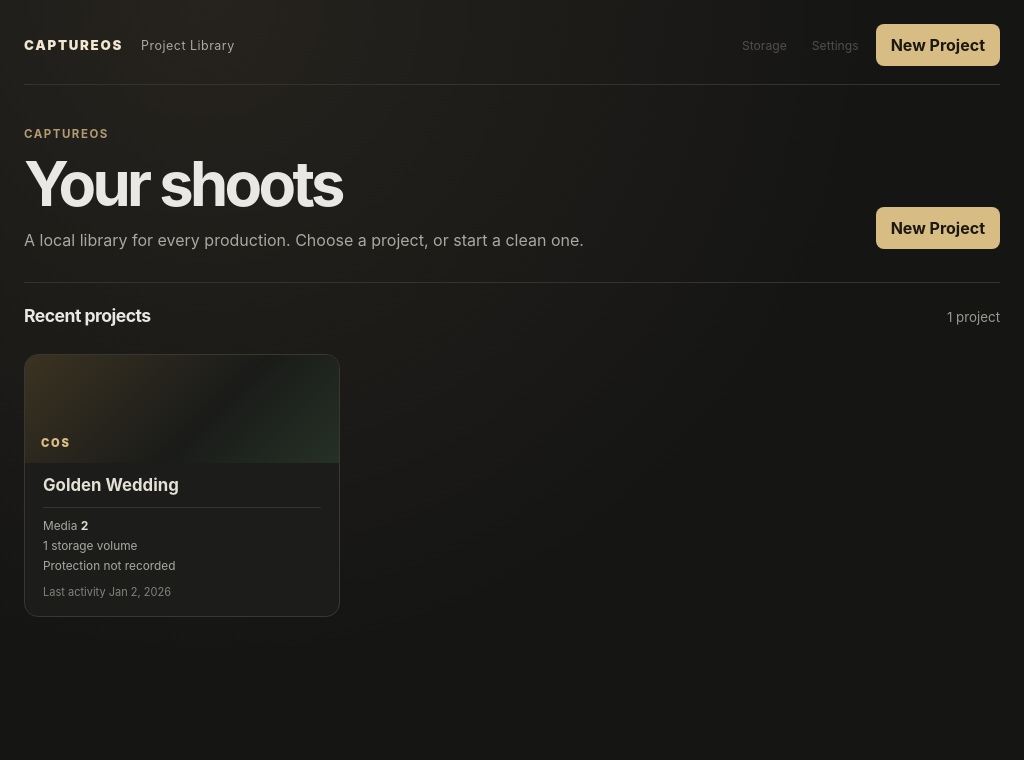
Test case: CaptureOS application shell and local media engine › does not show a failed-poster subtitle when a usable video poster is ready
The image size is (1024, 760).
Click the button with aria-label "Open Golden Wedding". click: (182, 409)
box: [24,354,340,617]
(page scrolled)
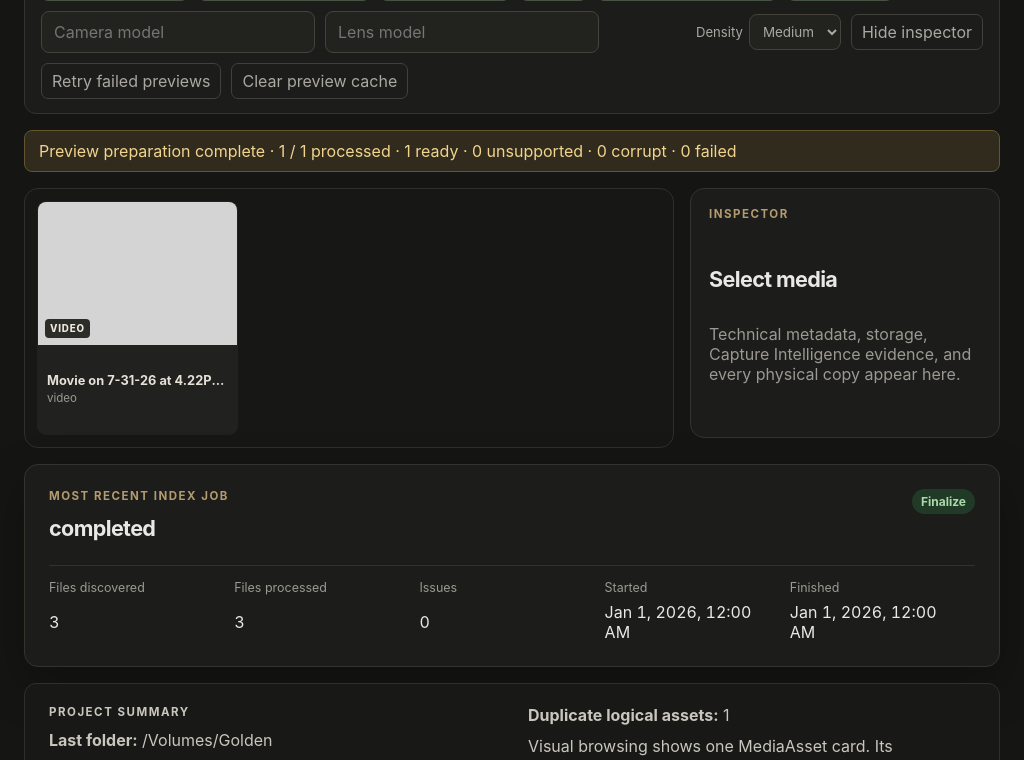
Expected: the text "Movie on 7-31-26 at 4.22PM.mov" is shown, [47,373,228,388]
